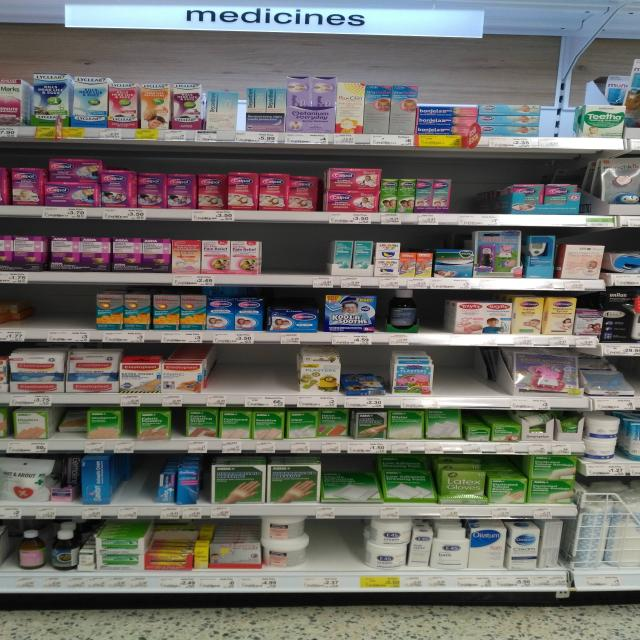void: (438, 347, 507, 407), (264, 231, 326, 287), (313, 520, 362, 588), (456, 169, 507, 228), (206, 350, 252, 406), (115, 458, 156, 516), (6, 288, 44, 346), (252, 350, 293, 402), (52, 286, 89, 342), (545, 99, 581, 151), (424, 292, 453, 332)
